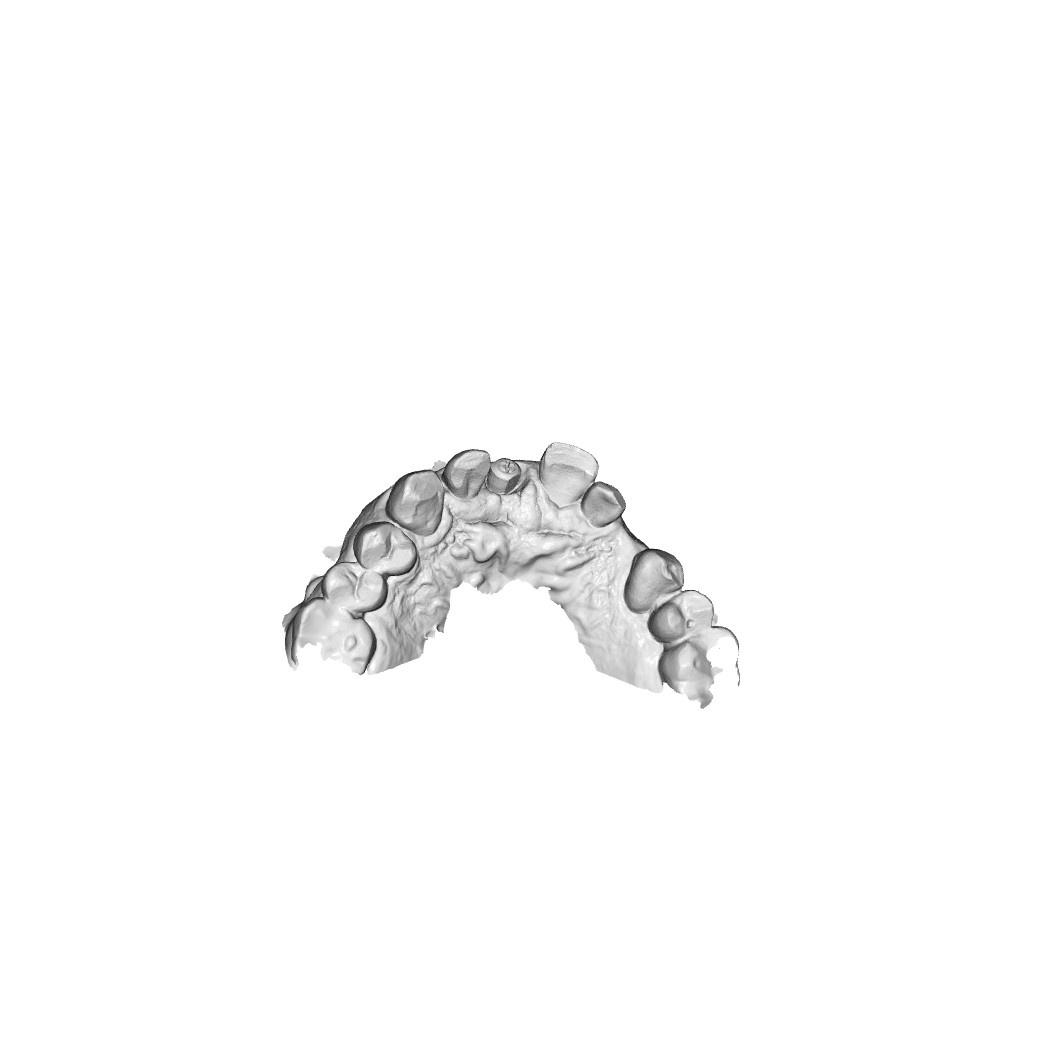canine: (385, 468, 443, 536)
implant: (487, 455, 520, 495)
incisor: (541, 448, 594, 504), (446, 451, 493, 505), (582, 486, 625, 534)
molar: (660, 625, 743, 701), (286, 604, 370, 675)
premolar: (622, 545, 682, 614), (648, 589, 714, 644), (350, 522, 417, 576), (325, 562, 385, 615)
